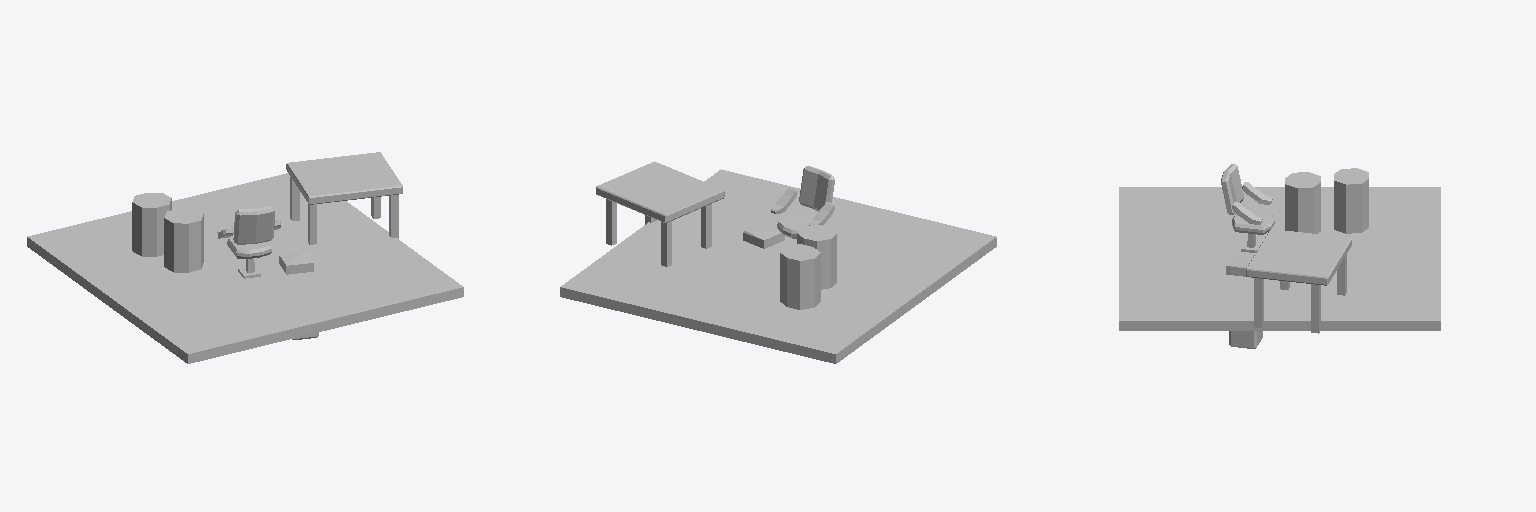
File: tableprm (copie).obj
The picture shows the model from 3 angles: view 1: azimuth 30°, elevation 25°; view 2: azimuth 150°, elevation 25°; view 3: azimuth 270°, elevation 25°; orthographic projection.
Parts seen in each view (by area): view 1: Mesh.002_Mesh.008_Mesh.007_Mesh.006_Group5679, Mesh.004_Mesh.001_Mesh.013_Mesh_Group5559, Mesh.011_Mesh.015_Mesh.002_Mesh.013_Group5709.001, Mesh.008_Mesh.007_Mesh.002_Mesh.013_Group5709, Mesh.009_Mesh.002_Mesh.012_Mesh.007_Group5694, Mesh.003_Mesh.004_Mesh.012_Group5724, Mesh.007_Mesh.011_Mesh.001_Mesh.005_Group5634; view 2: Mesh.002_Mesh.008_Mesh.007_Mesh.006_Group5679, Mesh.004_Mesh.001_Mesh.013_Mesh_Group5559, Mesh.008_Mesh.007_Mesh.002_Mesh.013_Group5709, Mesh.011_Mesh.015_Mesh.002_Mesh.013_Group5709.001, Mesh.009_Mesh.002_Mesh.012_Mesh.007_Group5694, Mesh.003_Mesh.004_Mesh.012_Group5724, Mesh.007_Mesh.011_Mesh.001_Mesh.005_Group5634; view 3: Mesh.002_Mesh.008_Mesh.007_Mesh.006_Group5679, Mesh.004_Mesh.001_Mesh.013_Mesh_Group5559, Mesh.008_Mesh.007_Mesh.002_Mesh.013_Group5709, Mesh.011_Mesh.015_Mesh.002_Mesh.013_Group5709.001, Mesh.009_Mesh.002_Mesh.012_Mesh.007_Group5694, Mesh.007_Mesh.011_Mesh.001_Mesh.005_Group5634, Mesh.013_Mesh.003_Mesh.004_Mesh.012_Group5724.
Boxes of the visible parts, <box> form: Mesh.002_Mesh.008_Mesh.007_Mesh.006_Group5679: <box>27,173,463,363</box>; Mesh.004_Mesh.001_Mesh.013_Mesh_Group5559: <box>286,152,402,204</box>; Mesh.011_Mesh.015_Mesh.002_Mesh.013_Group5709.001: <box>164,208,203,272</box>; Mesh.008_Mesh.007_Mesh.002_Mesh.013_Group5709: <box>132,193,171,256</box>; Mesh.009_Mesh.002_Mesh.012_Mesh.007_Group5694: <box>233,206,274,244</box>; Mesh.003_Mesh.004_Mesh.012_Group5724: <box>279,251,313,274</box>; Mesh.007_Mesh.011_Mesh.001_Mesh.005_Group5634: <box>227,237,271,258</box>; Mesh.002_Mesh.008_Mesh.007_Mesh.006_Group5679: <box>560,169,996,363</box>; Mesh.004_Mesh.001_Mesh.013_Mesh_Group5559: <box>596,161,724,222</box>; Mesh.008_Mesh.007_Mesh.002_Mesh.013_Group5709: <box>780,244,820,309</box>; Mesh.011_Mesh.015_Mesh.002_Mesh.013_Group5709.001: <box>797,224,836,289</box>; Mesh.009_Mesh.002_Mesh.012_Mesh.007_Group5694: <box>799,166,834,211</box>; Mesh.003_Mesh.004_Mesh.012_Group5724: <box>743,223,784,248</box>; Mesh.007_Mesh.011_Mesh.001_Mesh.005_Group5634: <box>777,213,824,238</box>; Mesh.002_Mesh.008_Mesh.007_Mesh.006_Group5679: <box>1119,187,1440,330</box>; Mesh.004_Mesh.001_Mesh.013_Mesh_Group5559: <box>1246,229,1351,285</box>; Mesh.008_Mesh.007_Mesh.002_Mesh.013_Group5709: <box>1334,168,1368,233</box>; Mesh.011_Mesh.015_Mesh.002_Mesh.013_Group5709.001: <box>1285,172,1320,233</box>; Mesh.009_Mesh.002_Mesh.012_Mesh.007_Group5694: <box>1221,164,1243,214</box>; Mesh.007_Mesh.011_Mesh.001_Mesh.005_Group5634: <box>1232,210,1274,234</box>; Mesh.013_Mesh.003_Mesh.004_Mesh.012_Group5724: <box>1229,331,1262,348</box>.
Bounding box in the file's own units: 16.66 × 7.81 × 15.63.